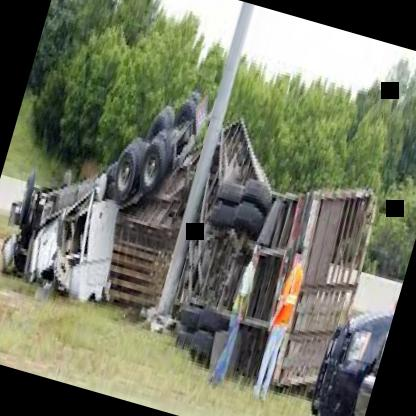accident: (0, 55, 394, 394)
